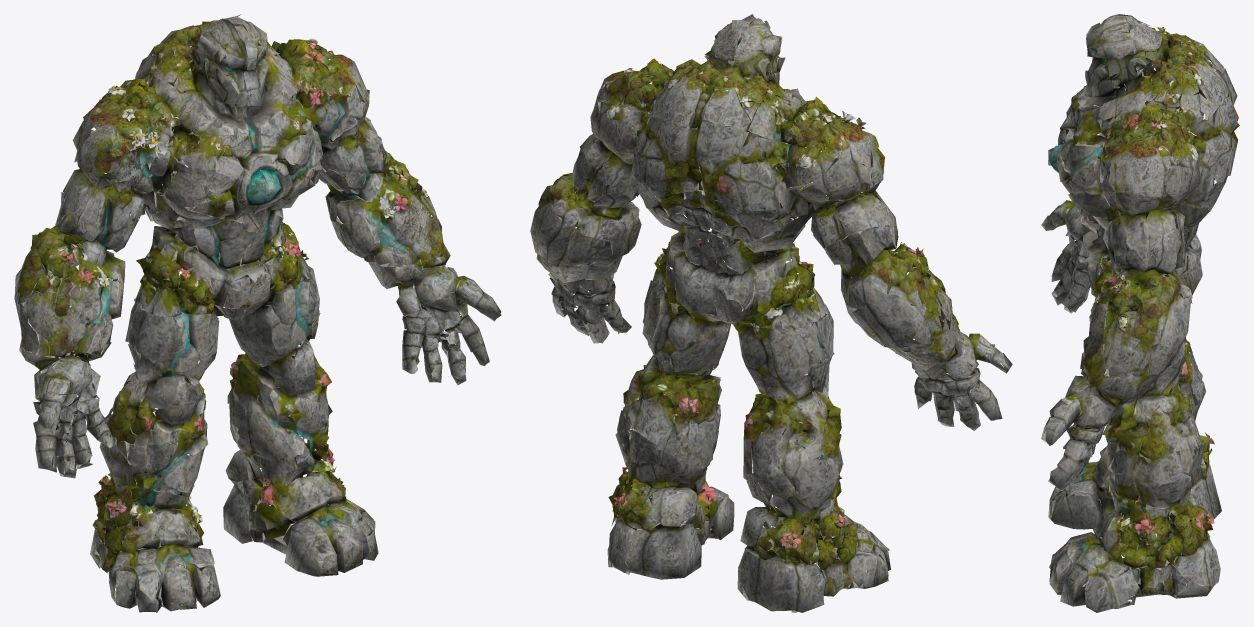
Rendered from golem_king.glb.
3 views of the same model, side by side, from view 1: azimuth 30°, elevation 25°; view 2: azimuth 150°, elevation 25°; view 3: azimuth 270°, elevation 25° (orthographic). The views are drawn at different scales.
Visible parts, largest first — view 1: stone-golem; view 2: stone-golem; view 3: stone-golem.
Boxes of the visible parts, left/top/right/bottom form: stone-golem: left=14, top=14, right=501, bottom=612; stone-golem: left=530, top=14, right=1012, bottom=612; stone-golem: left=1041, top=14, right=1239, bottom=612.
Bounding box in the file's own units: 0.8816 × 1 × 0.3356.
Materials: 1 (1 with a texture image).
